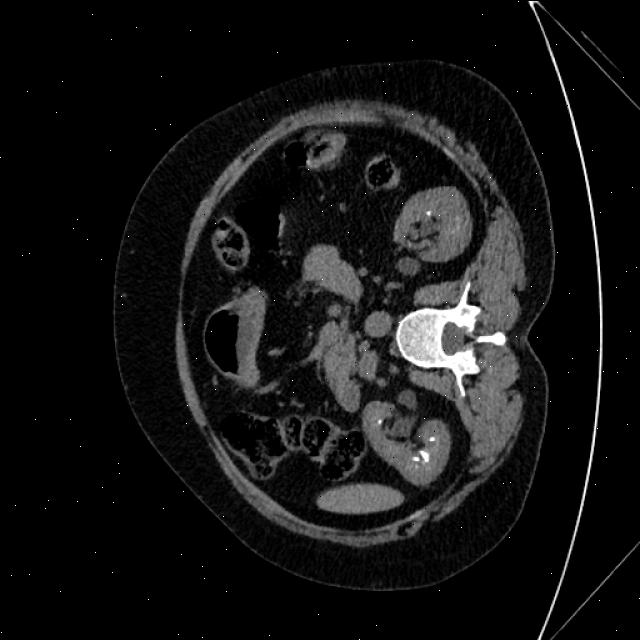kidneystone: (420, 449, 428, 462), (411, 456, 419, 461), (425, 210, 432, 215)
